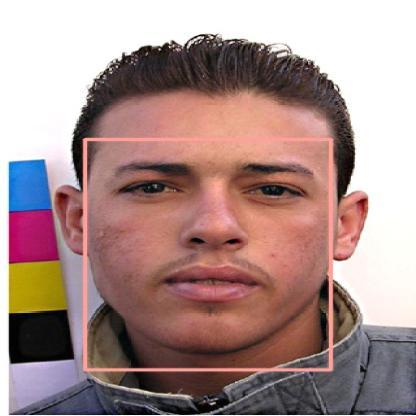without_mask: (85, 139, 330, 369)
